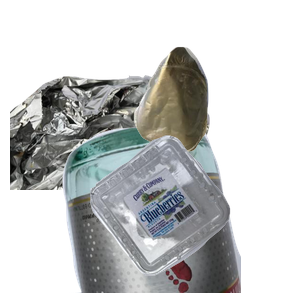glass: (60, 120, 300, 300)
metal: (10, 73, 212, 253)
plastic: (88, 133, 300, 300)
trash: (131, 44, 300, 189)
